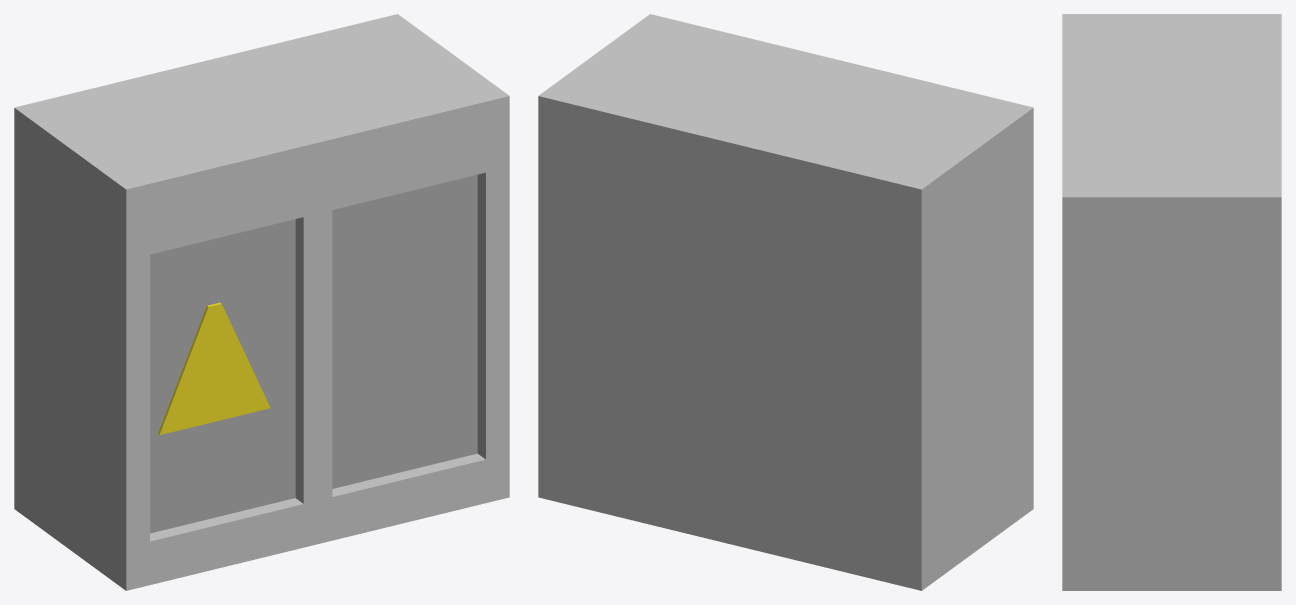
File: PowerGenerator_01.fbx
3 renders of one model, left to right at view 1: azimuth 30°, elevation 25°; view 2: azimuth 150°, elevation 25°; view 3: azimuth 270°, elevation 25°, orthographic. The views are drawn at different scales.
Parts seen in each view (by area): view 1: PowerGenerator_01; view 2: PowerGenerator_01; view 3: PowerGenerator_01.
Part boxes in pixels (x1,y1,x2,y2): PowerGenerator_01: (14, 14, 509, 590); PowerGenerator_01: (538, 14, 1033, 590); PowerGenerator_01: (1062, 14, 1281, 590).
Bounding box in the file's own units: 690 × 690 × 349.
